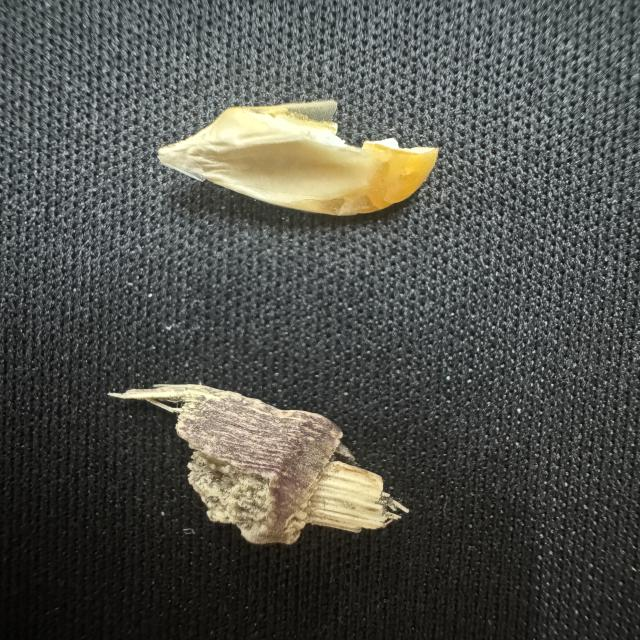Bad-Seed: (106, 369, 406, 569), (134, 92, 453, 234)
